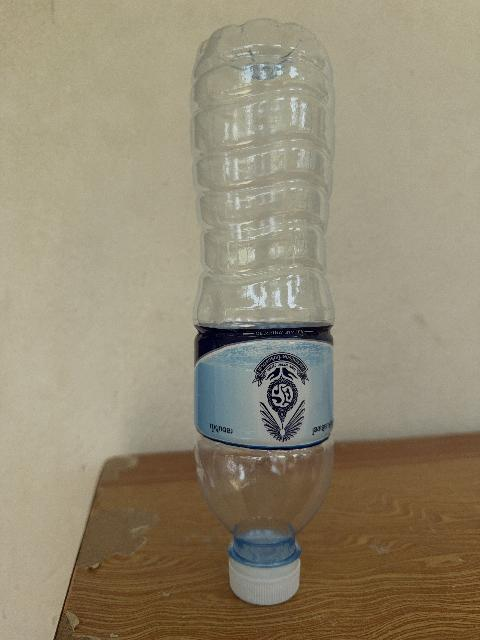bottle: (191, 20, 333, 604)
